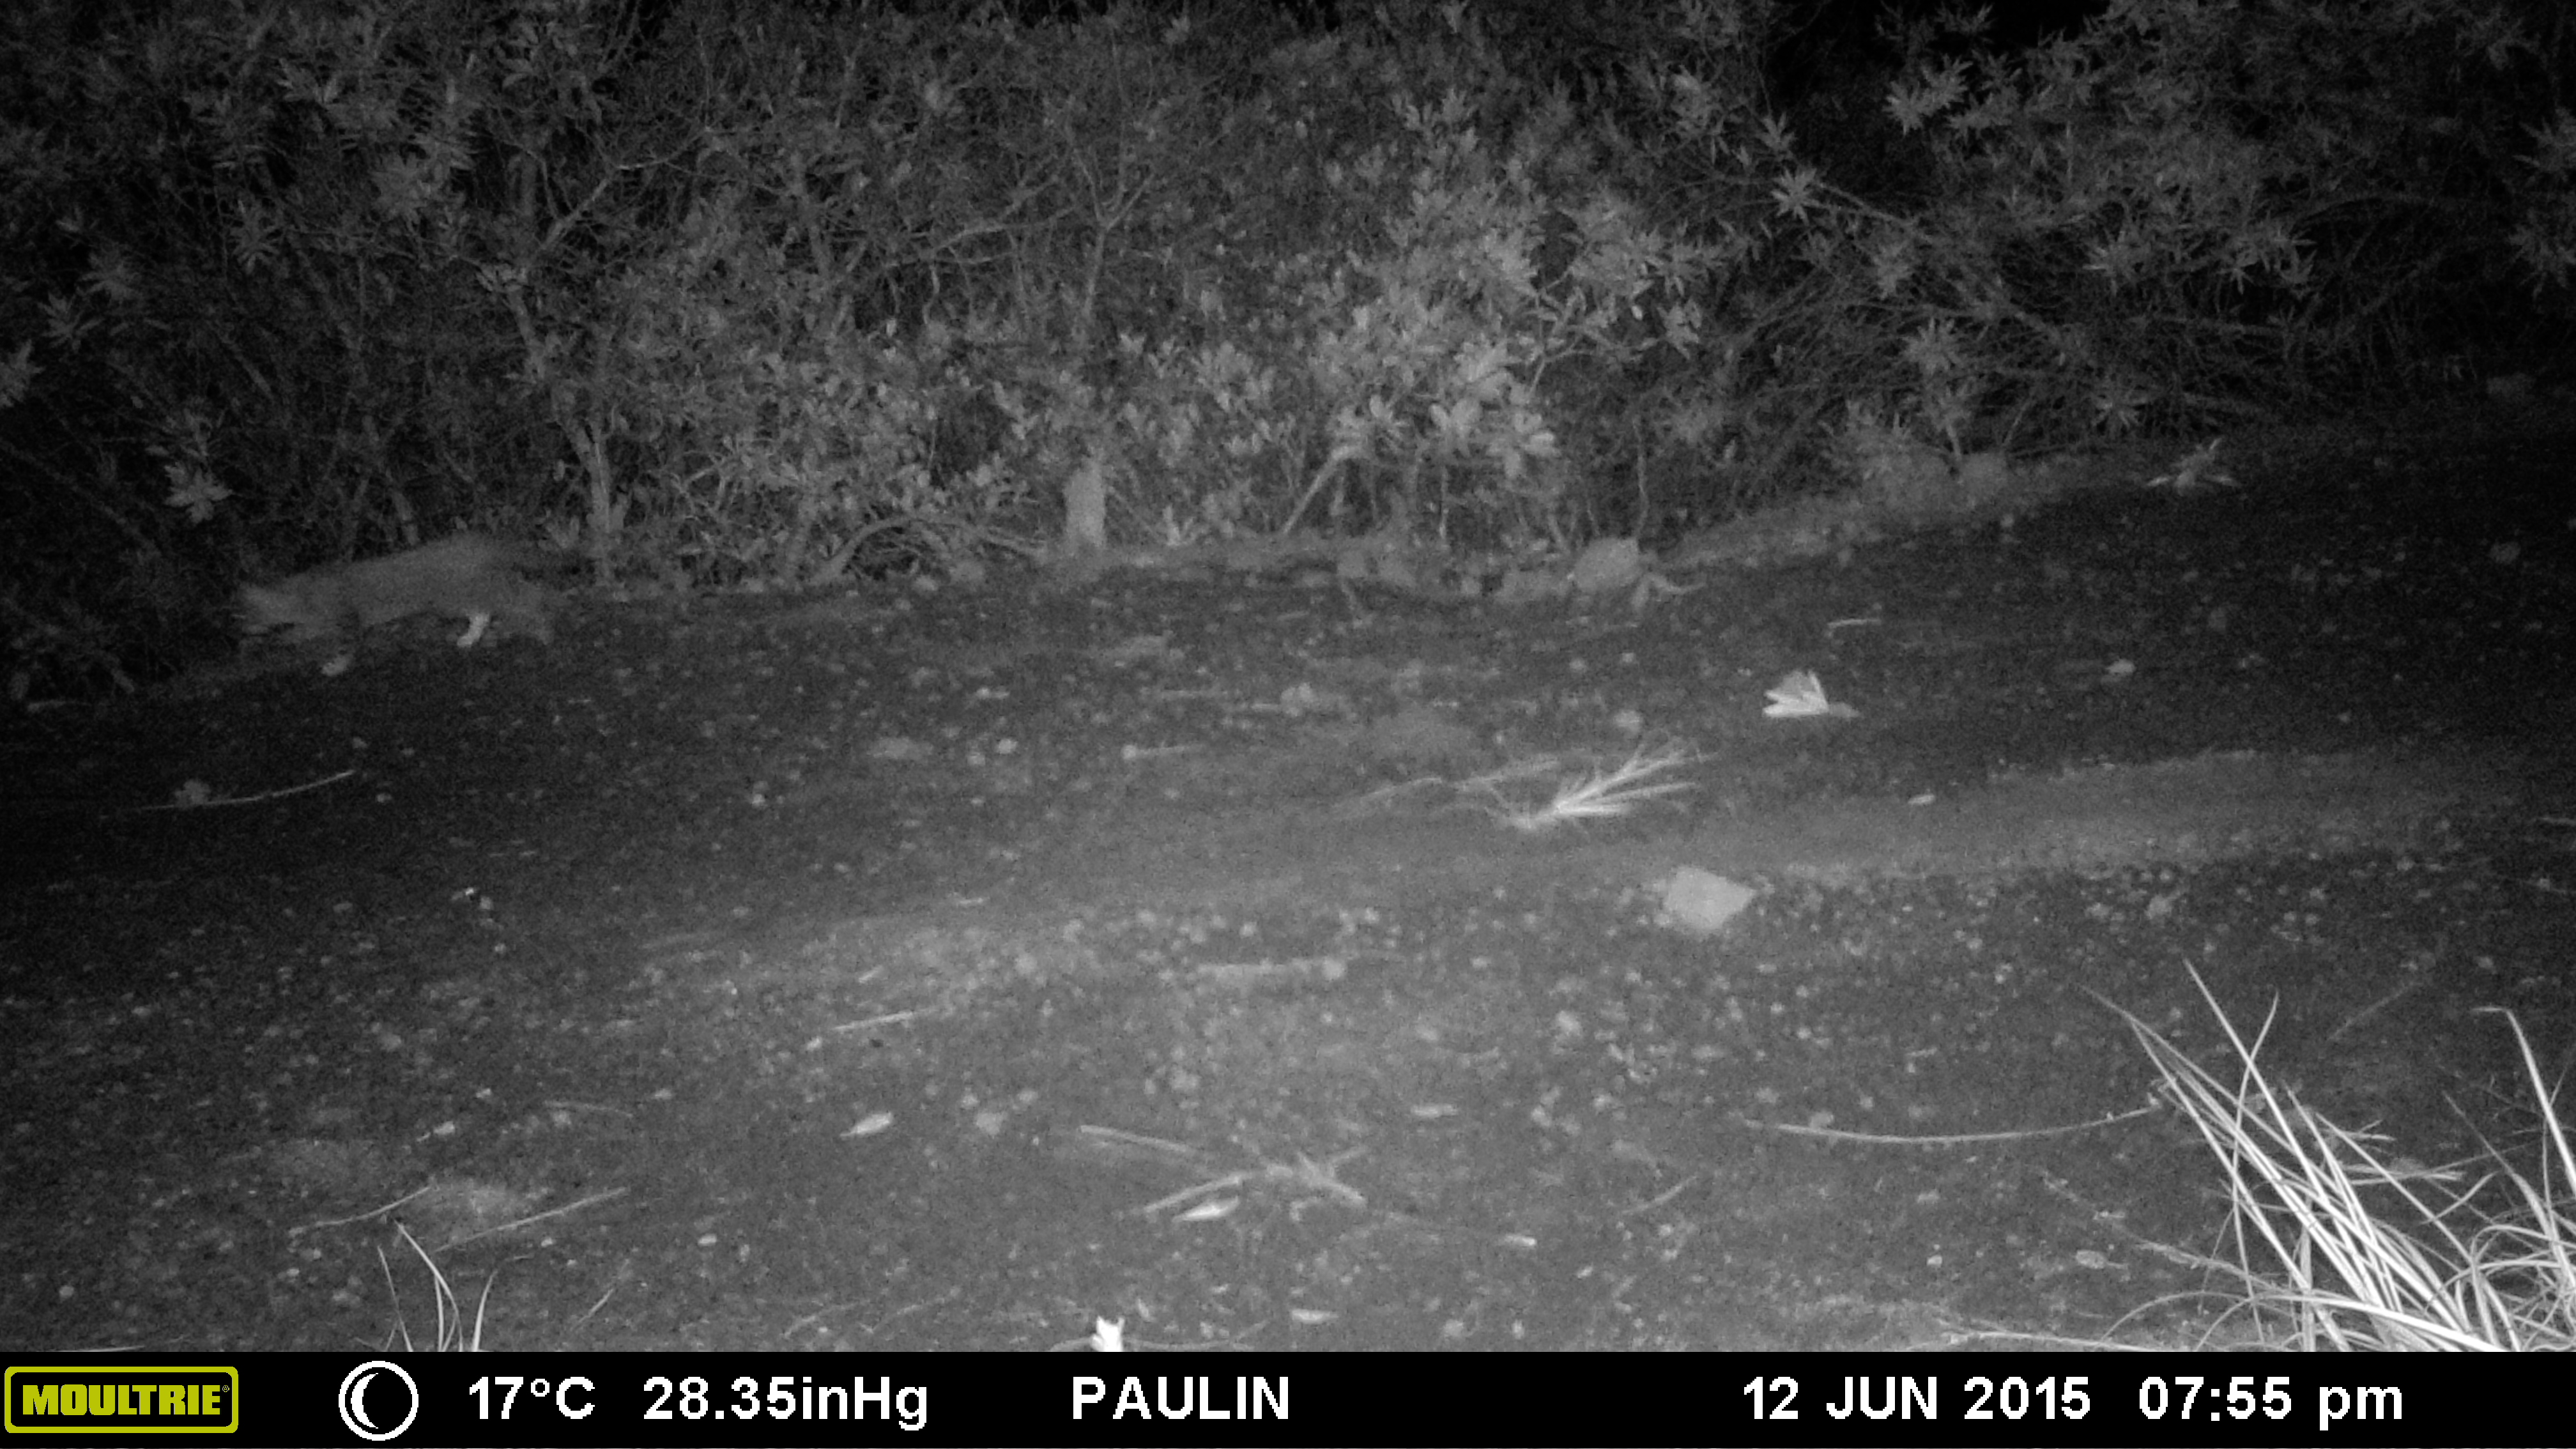cat: (216, 490, 559, 732)
